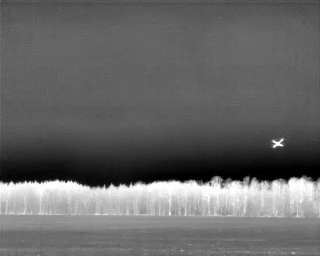DRONE: (267, 133, 289, 154)
